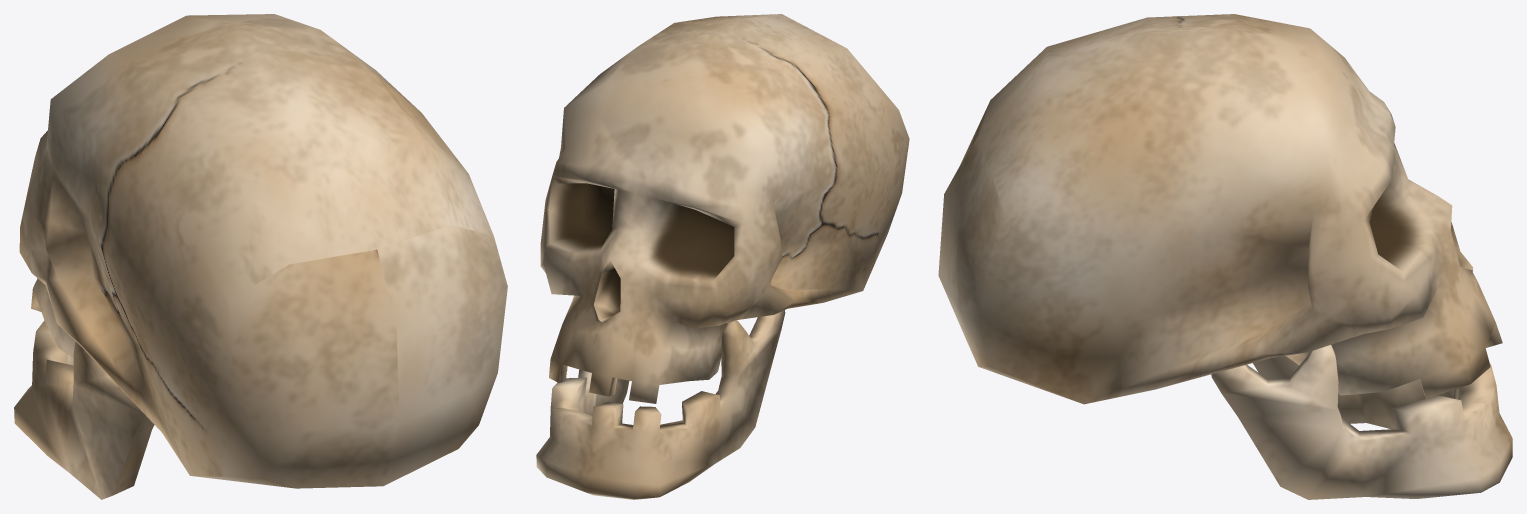
File: Skull.FBX
The picture shows the model from 3 angles, left to right: view 1: azimuth 30°, elevation 25°; view 2: azimuth 150°, elevation 25°; view 3: azimuth 270°, elevation 25°; orthographic projection. The views are drawn at different scales.
Visible parts, largest first — view 1: Skull, JawBone; view 2: Skull, JawBone; view 3: Skull, JawBone.
Part boxes in pixels (<box>): Skull: <box>19,14,507,488</box>; JawBone: <box>14,320,154,499</box>; Skull: <box>540,14,909,403</box>; JawBone: <box>536,310,785,499</box>; Skull: <box>938,14,1502,404</box>; JawBone: <box>1211,345,1512,499</box>.
Bounding box in the file's own units: 28.5 × 41.14 × 48.82.
